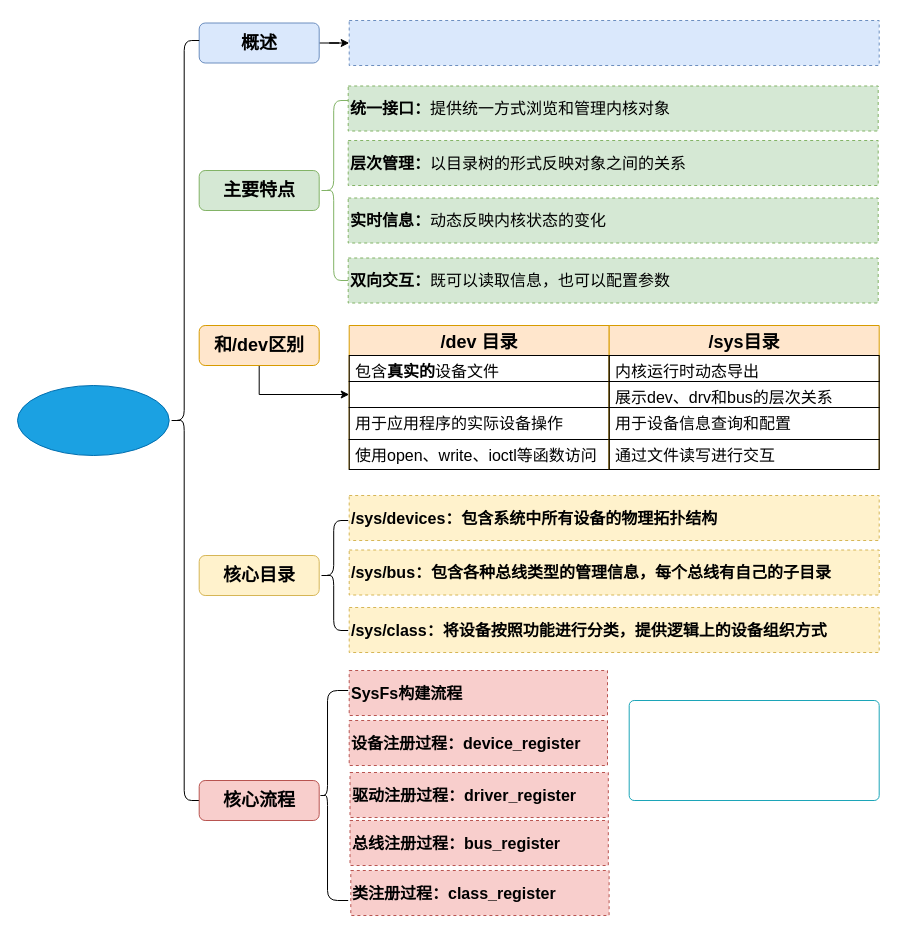
Image size: 897x933. Some labels were removed from this diagram. The shapes that lost their labels are listed below. From the top down, each one's centre as x and y in pixels, then its label:
point 613,43: Linux内核提供的一种 虚拟文件系统 ，用于向用户空间提供内核中设备、驱动程序和其他内核对象的信息
point 478,394: 通用由 udev 在运行时创建
point 92,420: SysFs
point 753,750: 🌻Make By Dakkk
